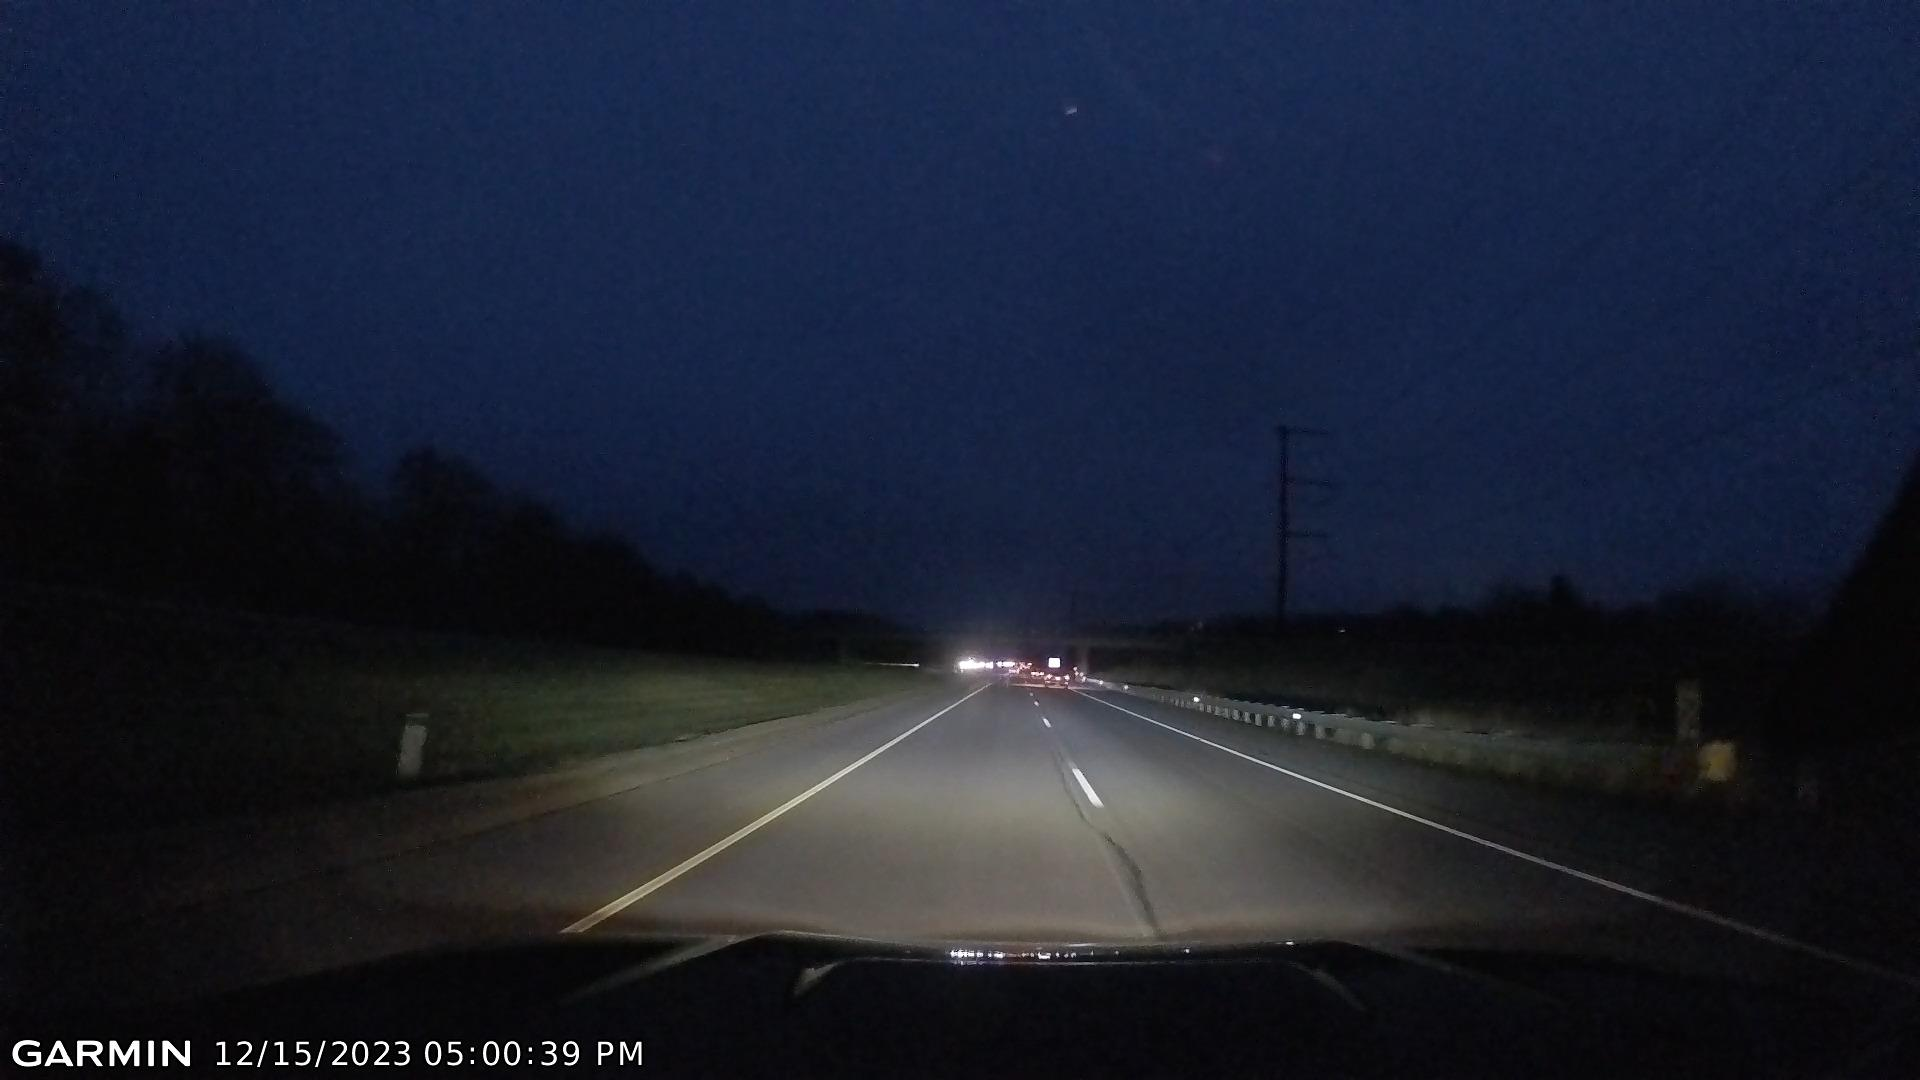1: (1072, 765, 1102, 806), (1043, 716, 1050, 728), (1034, 698, 1039, 705), (1046, 724, 1050, 728), (1043, 720, 1046, 724)
road-lanes: (563, 686, 986, 932)
